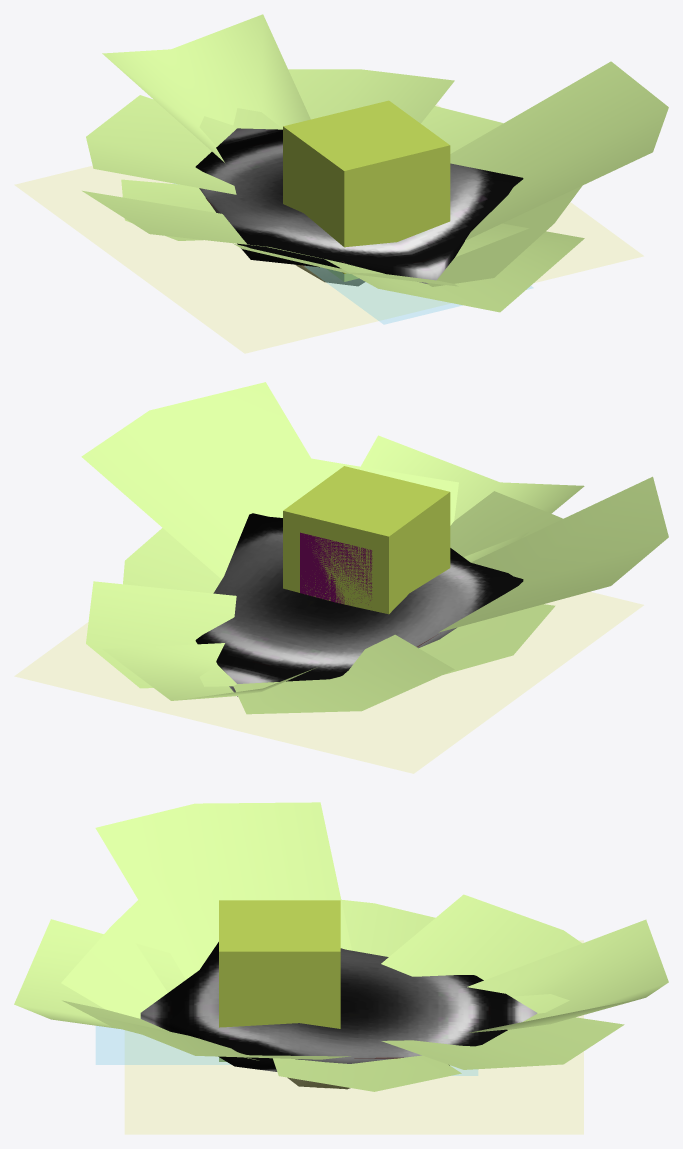
3 renders of one model, top to bottom at view 1: azimuth 30°, elevation 25°; view 2: azimuth 150°, elevation 25°; view 3: azimuth 270°, elevation 25°, orthographic.
Visible parts, largest first — view 1: object0030_Plane02, "object0018_Editable Poly", object0113_Box, "object0052_Editable Poly", "object0070_Editable Poly"; view 2: object0030_Plane02, "object0018_Editable Poly", "object0052_Editable Poly", object0113_Box, object0116_Box; view 3: object0030_Plane02, "object0018_Editable Poly", "object0052_Editable Poly", object0113_Box, "object0070_Editable Poly".
Part boxes in pixels (<box>): object0030_Plane02: <box>82,14,668,312</box>; "object0018_Editable Poly": <box>15,104,643,353</box>; object0113_Box: <box>283,100,450,281</box>; "object0052_Editable Poly": <box>195,128,523,286</box>; "object0070_Editable Poly": <box>304,266,532,324</box>; object0030_Plane02: <box>81,382,668,714</box>; "object0018_Editable Poly": <box>15,592,643,773</box>; "object0052_Editable Poly": <box>195,513,523,696</box>; object0113_Box: <box>283,466,450,614</box>; object0116_Box: <box>300,532,372,604</box>; object0030_Plane02: <box>14,802,668,1091</box>; "object0018_Editable Poly": <box>125,940,583,1134</box>; "object0052_Editable Poly": <box>140,942,537,1089</box>; object0113_Box: <box>219,900,340,1061</box>; "object0070_Editable Poly": <box>96,1026,230,1064</box>.
Size of the model in its own units: 1.48 by 0.4477 by 1.59.
